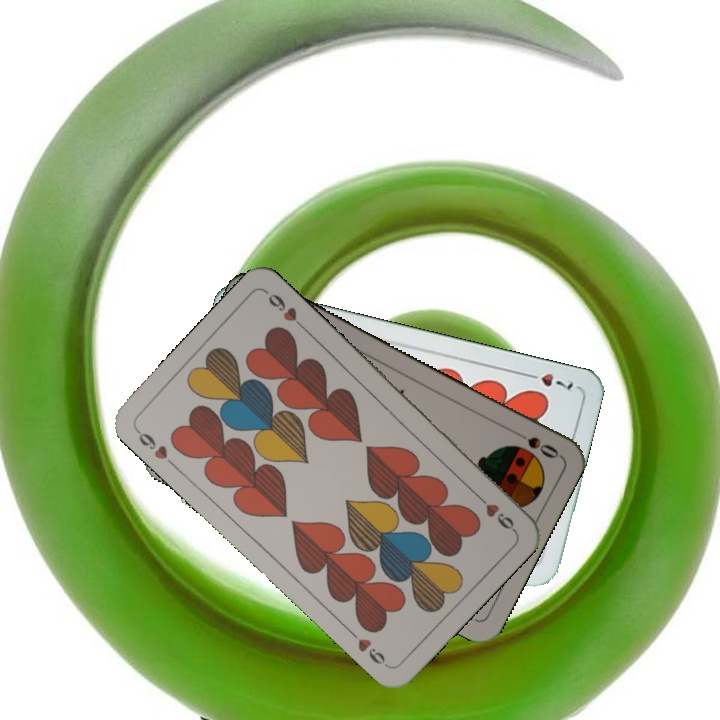H7: (520, 368, 576, 392)
H9: (132, 425, 179, 471), (471, 489, 518, 534)
SO: (507, 425, 562, 461)
